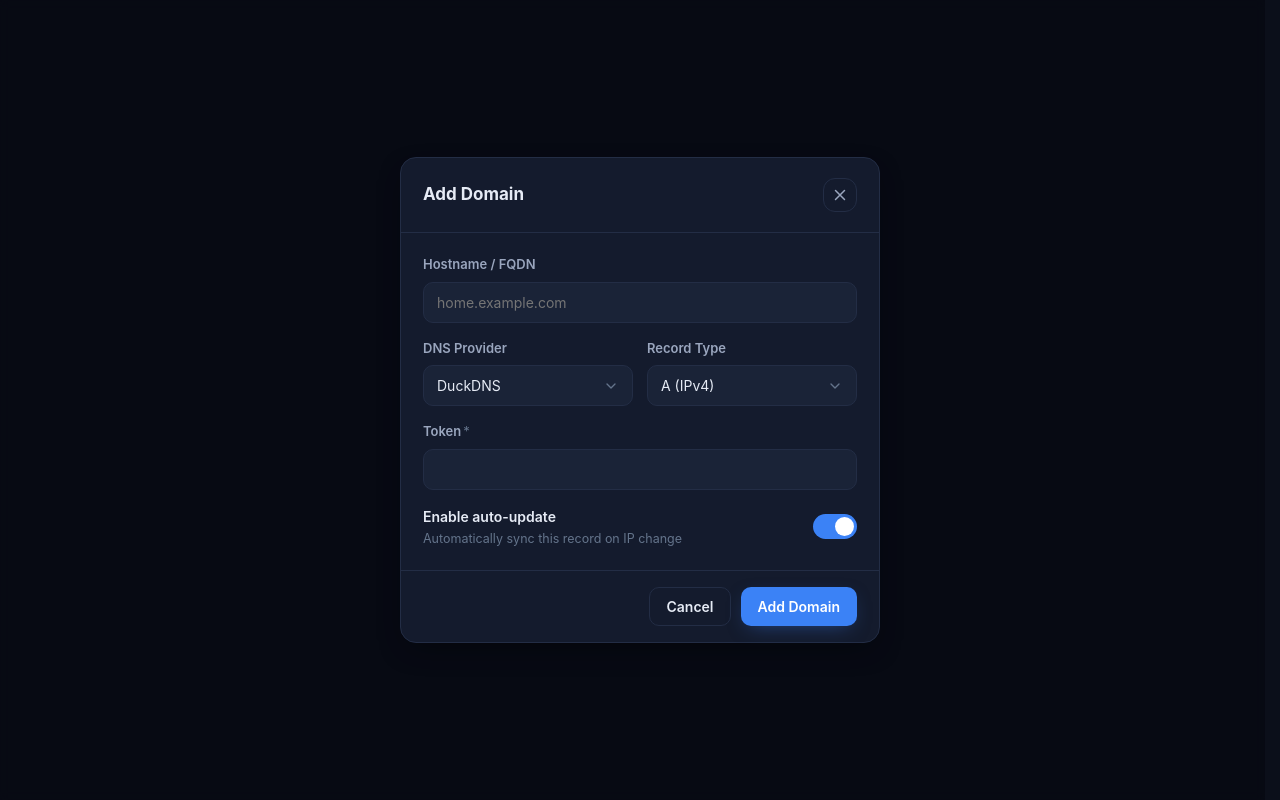
Test: DomainModal › shows an error on the whole provider config as a form-level alert
This screenshot has width=1280, height=800.
Click the button "Add Domain": point(799, 607) [740,587,857,626]
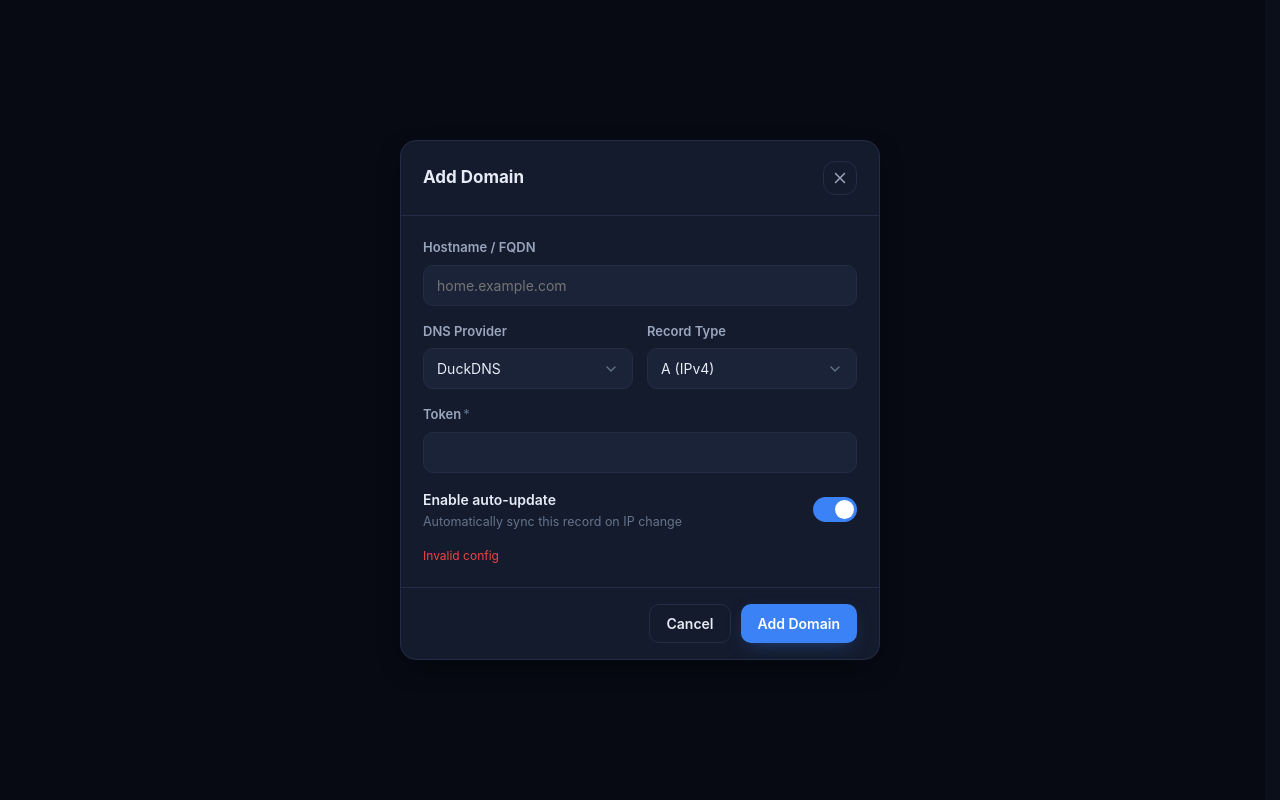
Expected: the message reads "Invalid config", [423,548,499,563]
